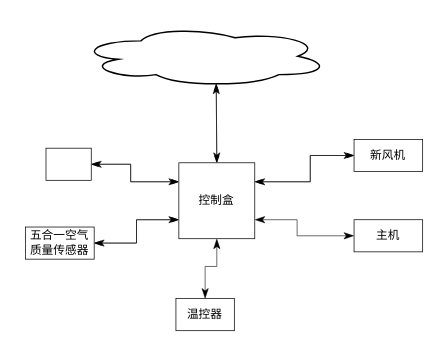
The diagram is 448 pixels wide and 356 high, and some of its shapes have lost their labels. The shapes that lost their labels are listed below. From the top down, each one's centre as x and y in pixels, then its label:
point (203, 55): 云平台
point (68, 163): 继电器扩展板
